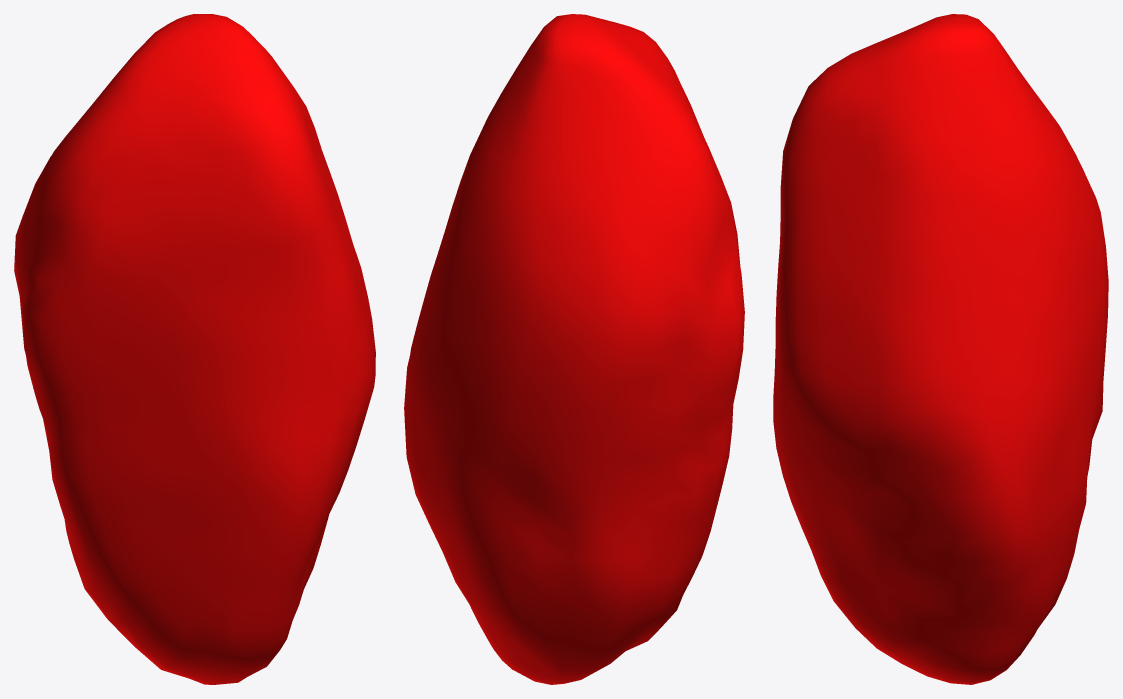
Rendered from crystal_lights.fbx.
The picture shows the model from 3 angles, left to right: view 1: azimuth 30°, elevation 25°; view 2: azimuth 150°, elevation 25°; view 3: azimuth 270°, elevation 25°; orthographic projection.
Visible parts, largest first — view 1: crystal_lo; view 2: crystal_lo; view 3: crystal_lo.
Part boxes in pixels (x1,y1,x2,y2): crystal_lo: [14, 14, 375, 684]; crystal_lo: [404, 14, 744, 684]; crystal_lo: [773, 14, 1108, 684].
Size of the model in its own units: 1.44 by 2.83 by 1.33.
